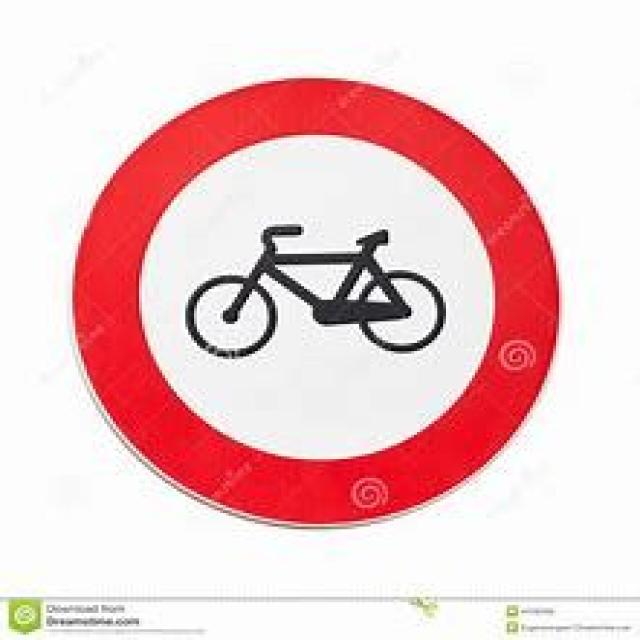cycle_prohibited: (67, 76, 559, 526)
